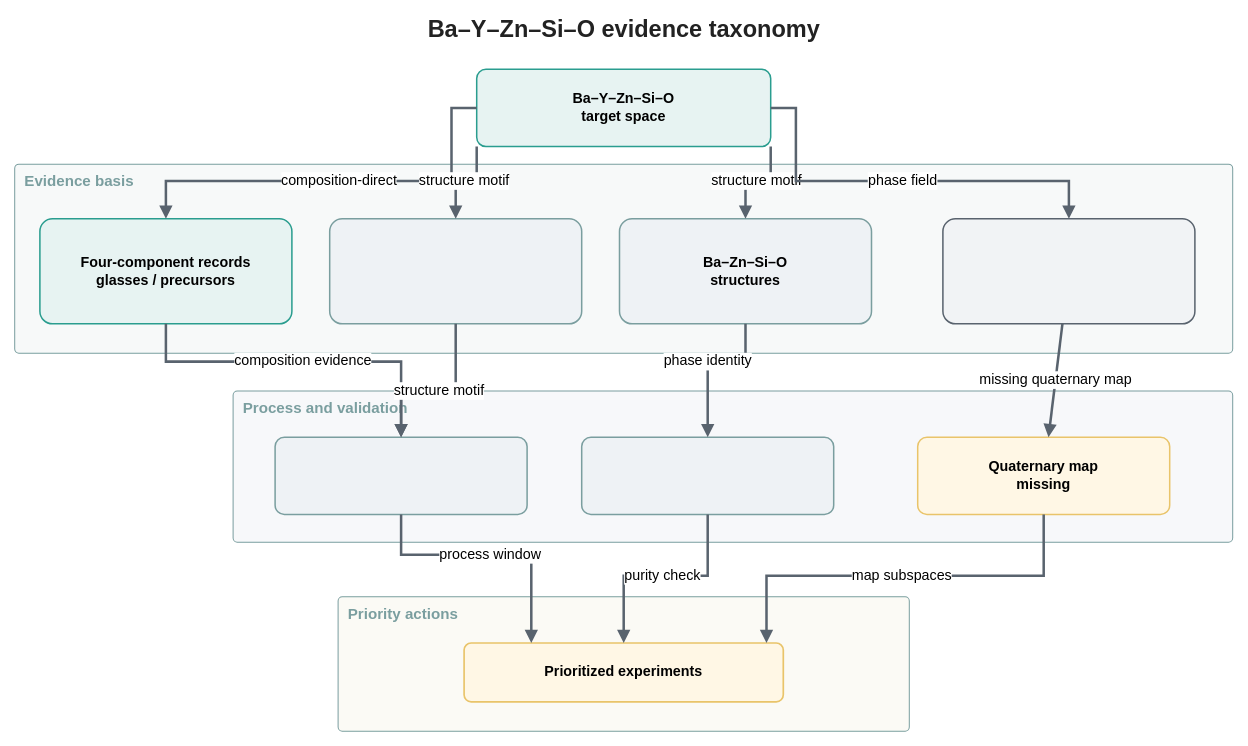
The diagram is 1248 pixels wide and 746 high, and some of its shapes have lost their labels. The centre of each missing label's shape, as x and y in pixels:
Ba–Y–Si–O structures: the point at 455,271
Binary / ternary phase relations: the point at 1068,271
Diffraction + EPMA + complementary probes: the point at 707,475
Processing controls: the point at 400,475
